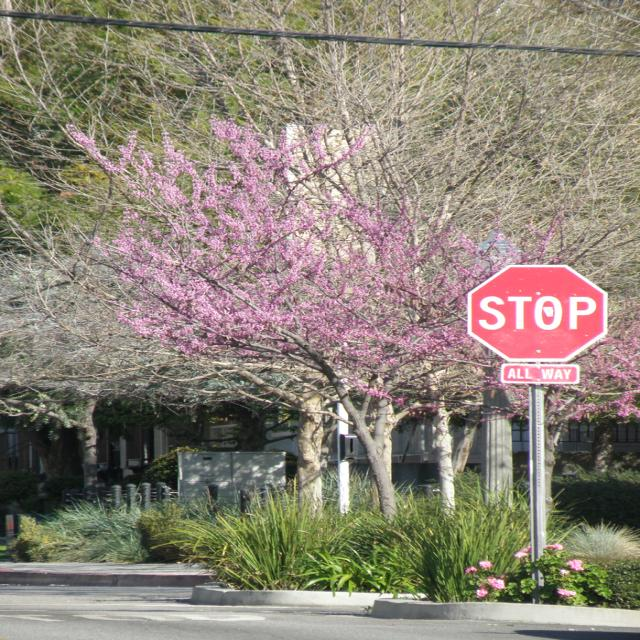Stop-sign: (465, 262, 609, 361)
